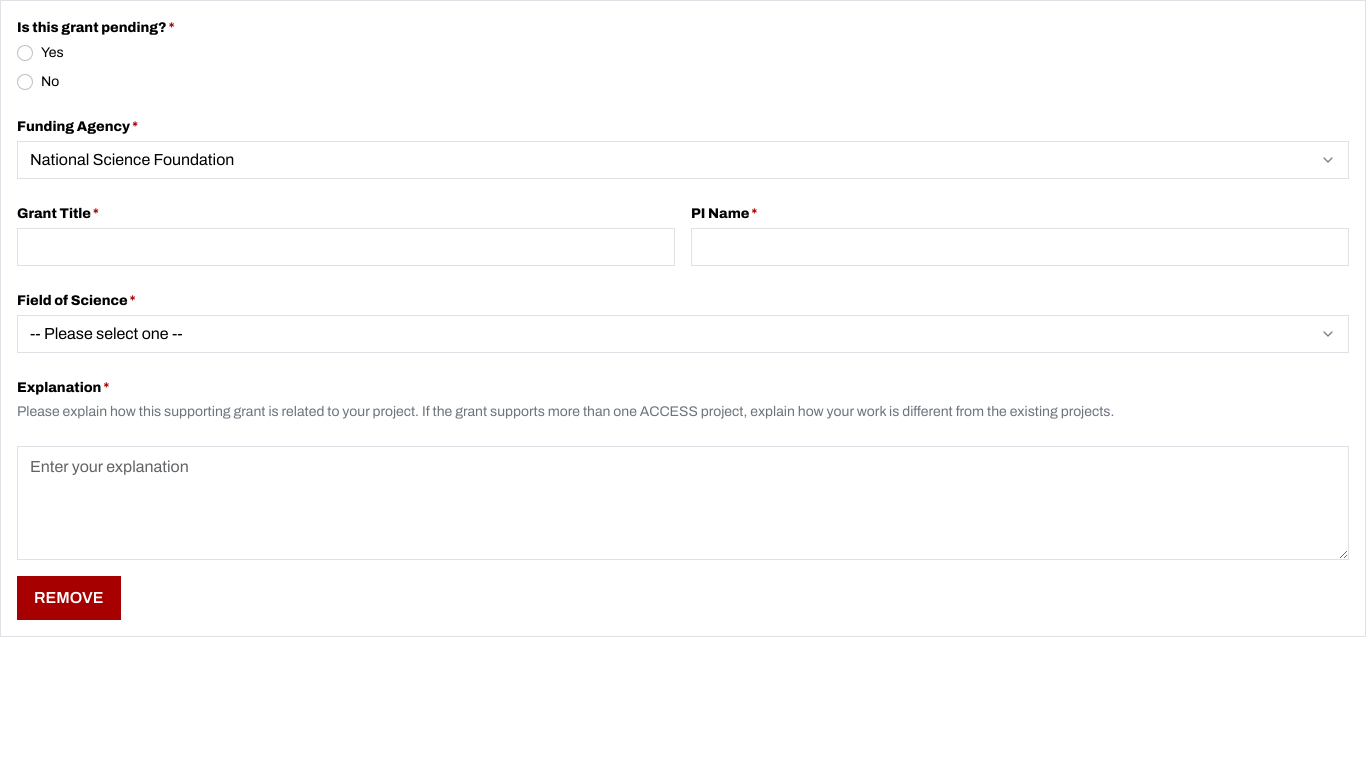
it: GrantFields › shows the award-detail fields, all required, once the grant is answered as awarded
The image size is (1366, 768).
Click the radio button named "No" next to "No" at (25, 82), box [17,74,33,90]
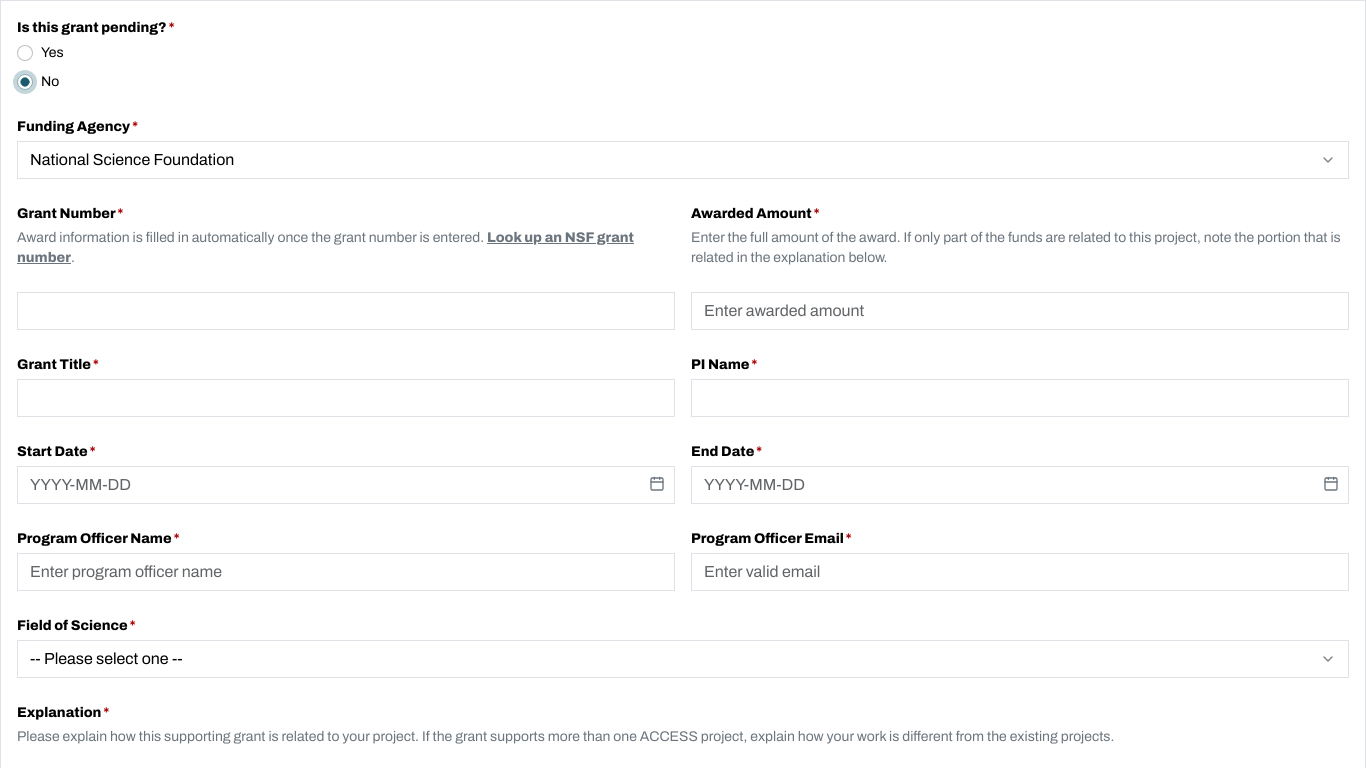
Result: the label "Grant Number*" is shown at [17,206,123,221]
Result: the label "Start Date*" is shown at [17,444,96,459]
Result: the label "End Date*" is shown at [691,444,762,459]
